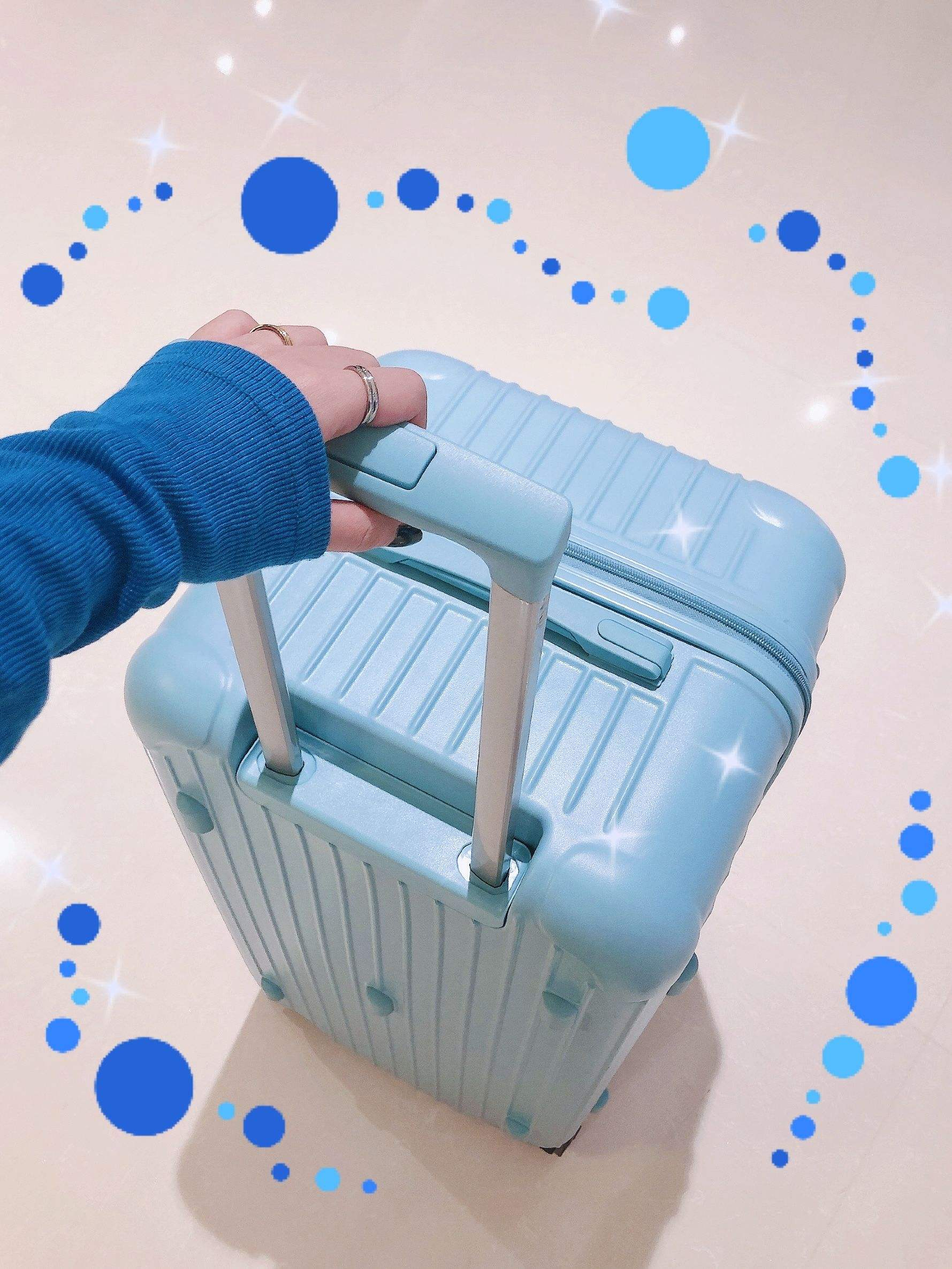box: (127, 349, 844, 1151)
handle: (365, 527, 674, 690)
